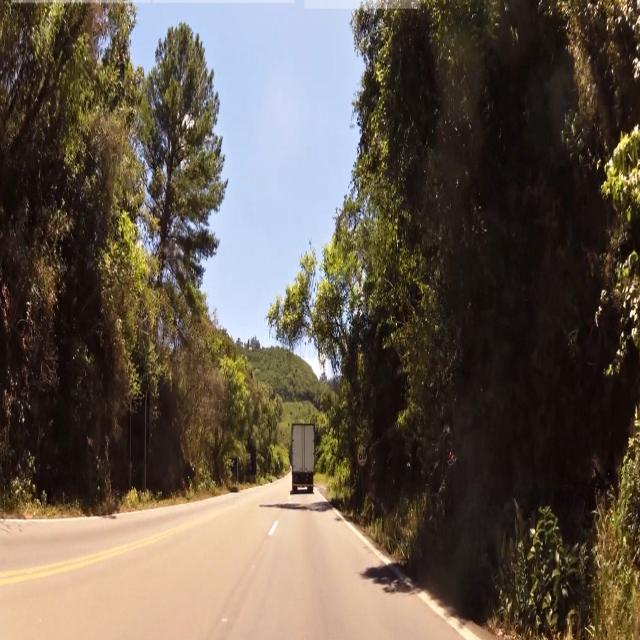R-19: (357, 442, 367, 466)
